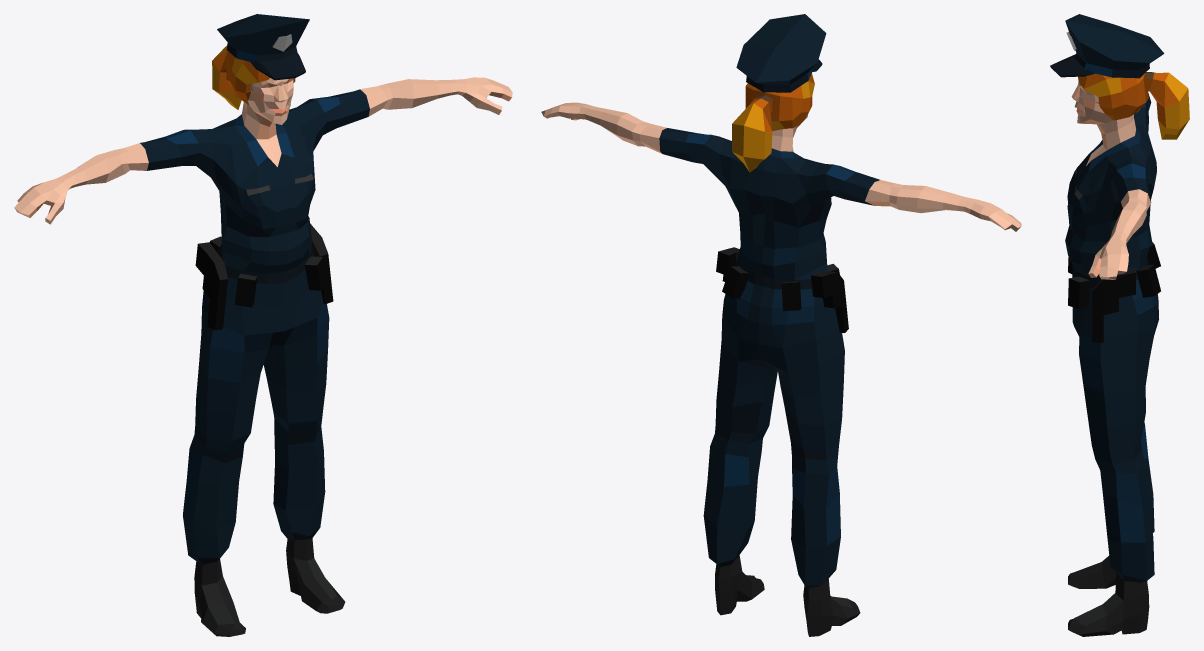
The model's file is police_Female_A-model.fbx.
3 renders of one model, left to right at view 1: azimuth 30°, elevation 25°; view 2: azimuth 150°, elevation 25°; view 3: azimuth 270°, elevation 25°, orthographic. The views are drawn at different scales.
Visible parts, largest first — view 1: police_Female_A; view 2: police_Female_A; view 3: police_Female_A.
Part boxes in pixels (x1,y1,x2,y2): police_Female_A: (14, 14, 512, 636); police_Female_A: (541, 14, 1021, 636); police_Female_A: (1050, 14, 1189, 636).
Bounding box in the file's own units: 154 × 180 × 38.77.
Materials: 1 (1 with a texture image).
